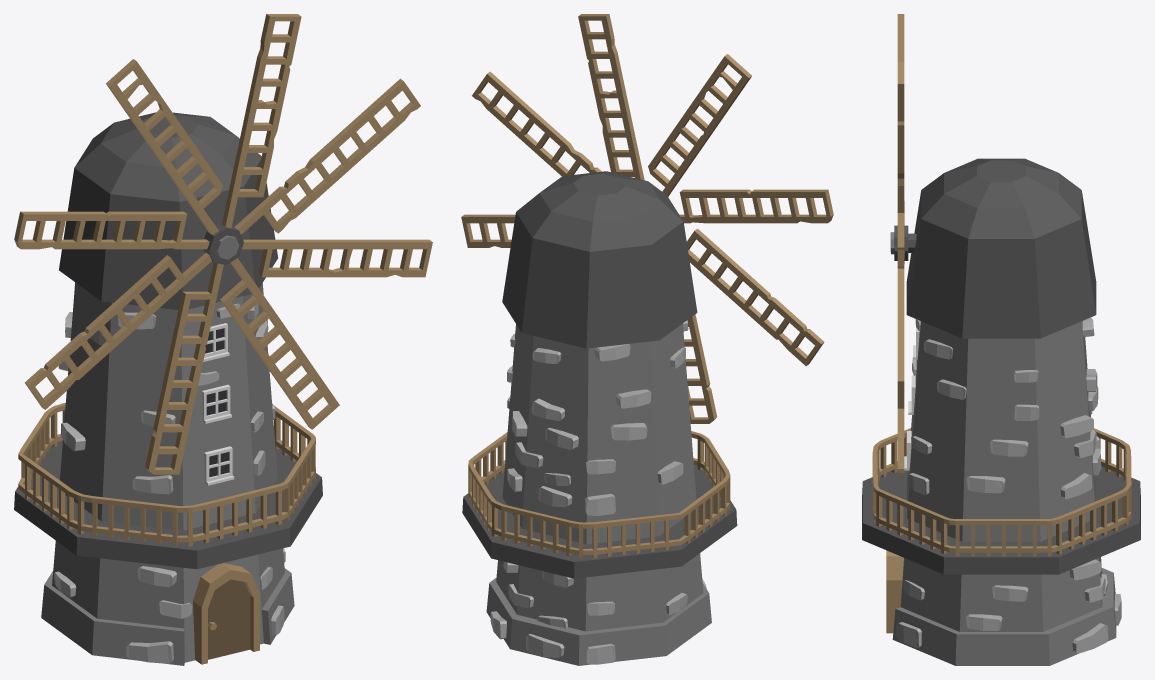
File: TowerWindmill.glb
3 renders of one model, left to right at view 1: azimuth 30°, elevation 25°; view 2: azimuth 150°, elevation 25°; view 3: azimuth 270°, elevation 25°, orthographic. The views are drawn at different scales.
Parts seen in each view (by area): view 1: TowerWindmill, TowerWindmill_Blades; view 2: TowerWindmill, TowerWindmill_Blades; view 3: TowerWindmill, TowerWindmill_Blades.
Part boxes in pixels (x1=…): TowerWindmill: x1=14, y1=112, x2=322, y2=665; TowerWindmill_Blades: x1=14, y1=14, x2=432, y2=474; TowerWindmill: x1=462, y1=171, x2=737, y2=665; TowerWindmill_Blades: x1=461, y1=14, x2=833, y2=423; TowerWindmill: x1=862, y1=158, x2=1140, y2=665; TowerWindmill_Blades: x1=897, y1=14, x2=904, y2=472.
Size of the model in its own units: 7.92 by 11.41 by 4.99.
